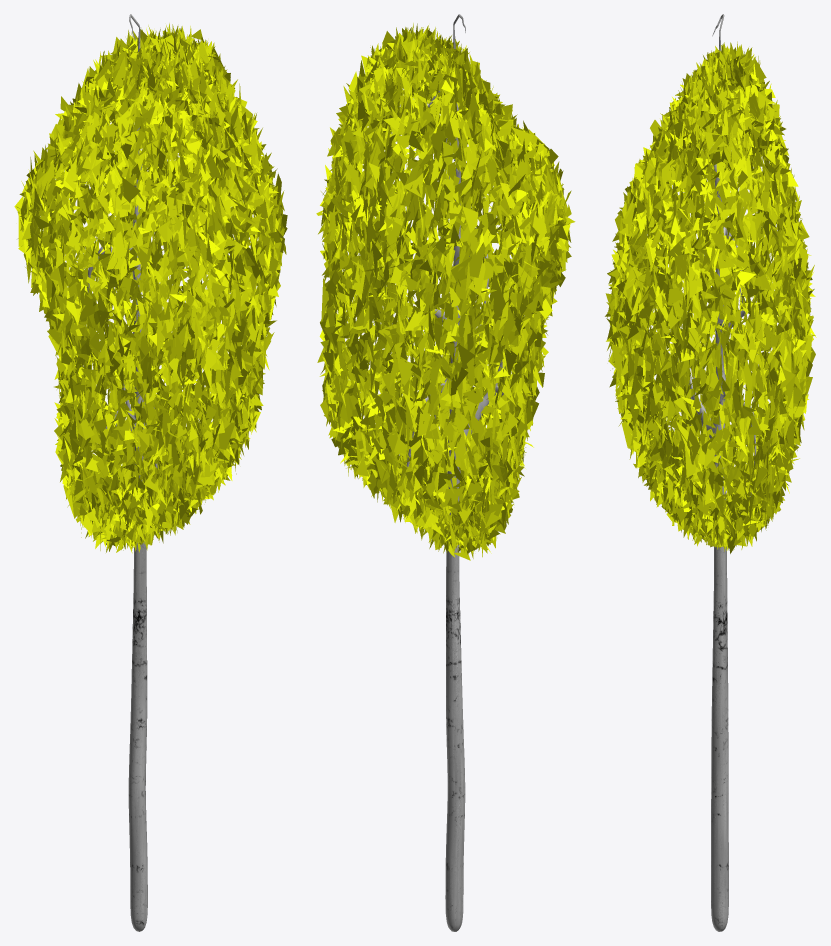
File: Leaves12.001.fbx
3 renders of one model, left to right at view 1: azimuth 30°, elevation 25°; view 2: azimuth 150°, elevation 25°; view 3: azimuth 270°, elevation 25°, orthographic.
Visible parts, largest first — view 1: Leaves12.001; view 2: Leaves12.001; view 3: Leaves12.001.
Part boxes in pixels (<box>): Leaves12.001: <box>14,14,287,931</box>; Leaves12.001: <box>316,14,575,931</box>; Leaves12.001: <box>605,14,816,931</box>.
Size of the model in its own units: 739 by 2612 by 550.
2 materials, 1 textured.
